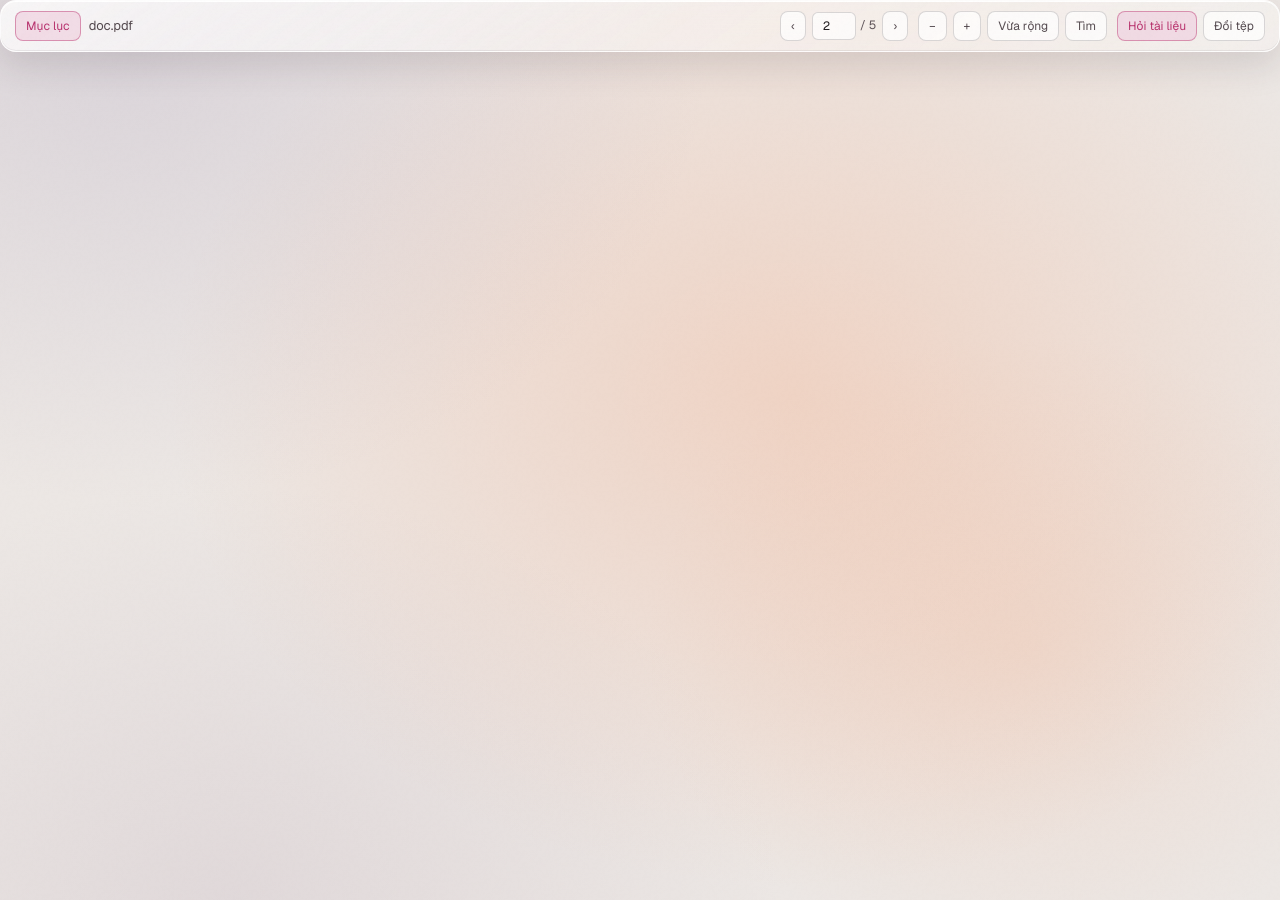
Test: PdfToolbar › clamps entered pages and exposes panel state
Replace the text in the number field named "Trang hiện tại" with "99": [834, 26] box [812,12,856,40]
Then press Enter
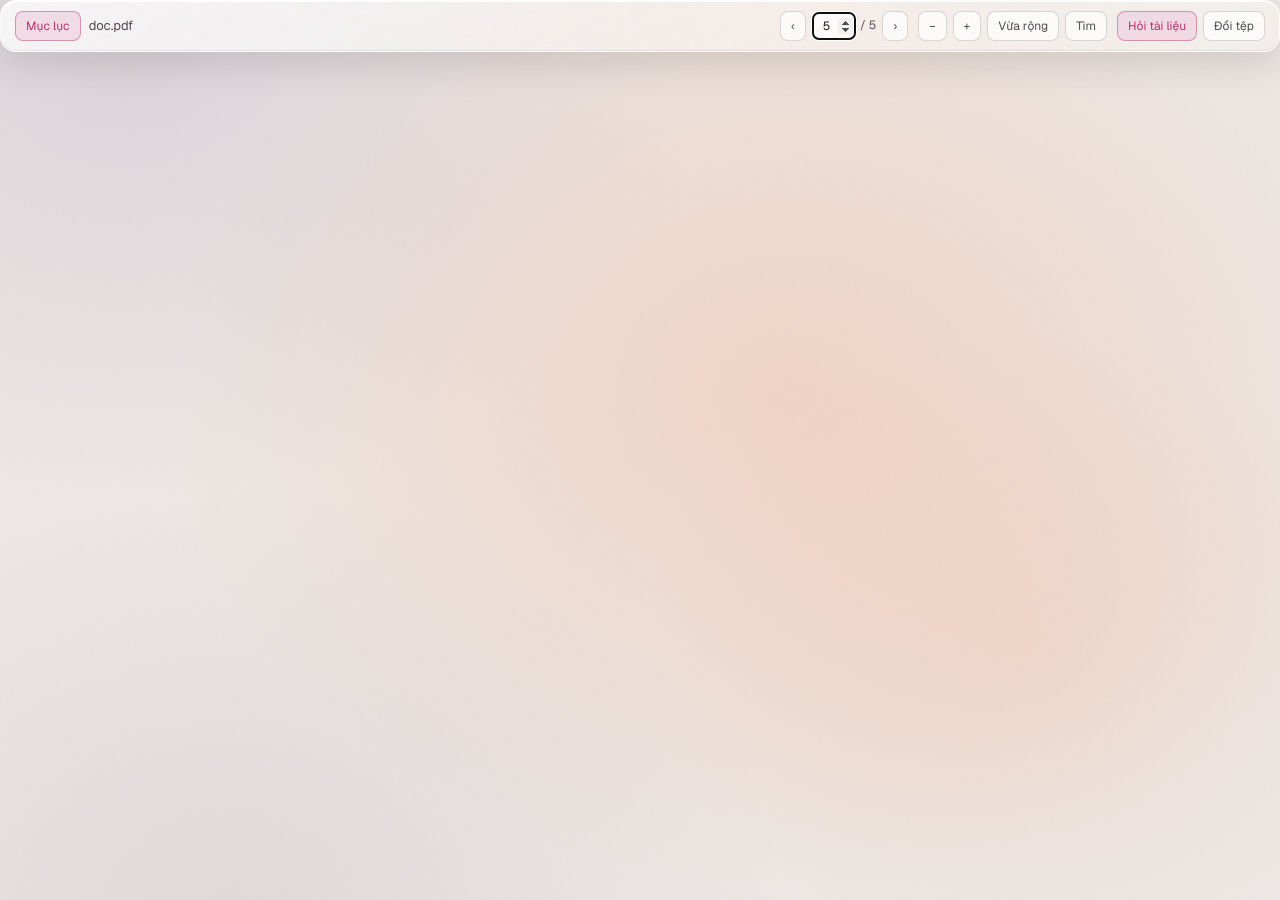
Check: the number field named "Trang hiện tại" holds "5", box [812,12,856,40]
